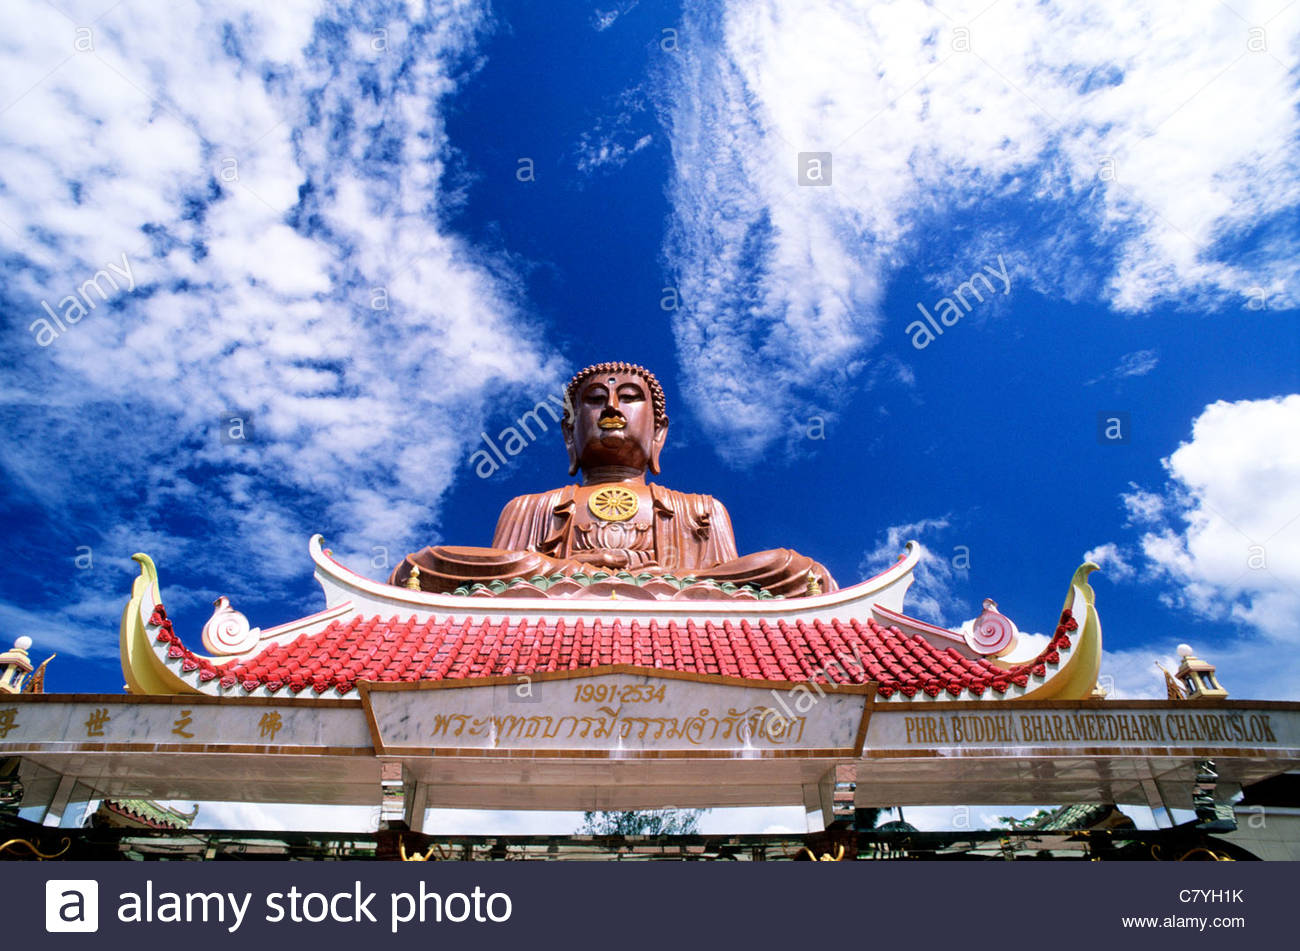Buddhist Temple: (176, 353, 1030, 738)
